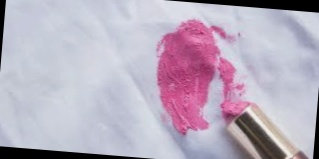lipstick: (144, 18, 234, 140)
